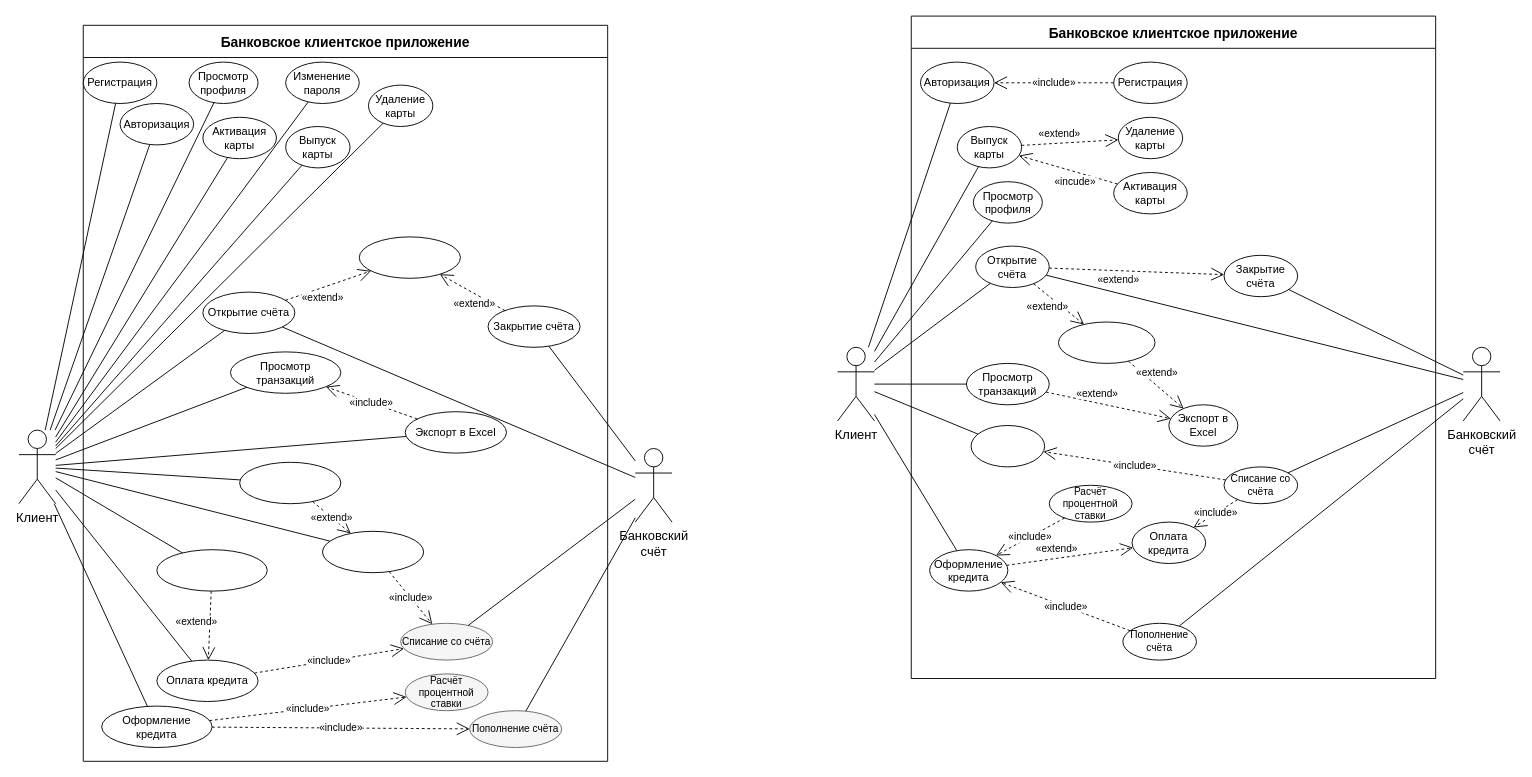
This 1532x777 diagram has some shape labels left out. Here are the shapes that lost their labels. From the top down, the centre of each, then its label:
the point at 409,257: Просмотр баланса
the point at 1106,342: Просмотр счета и баланса
the point at 1007,446: Совершать перевод
the point at 290,482: Блокировка карты
the point at 211,570: Просмотр графиков
the point at 373,551: Перевод по карте
